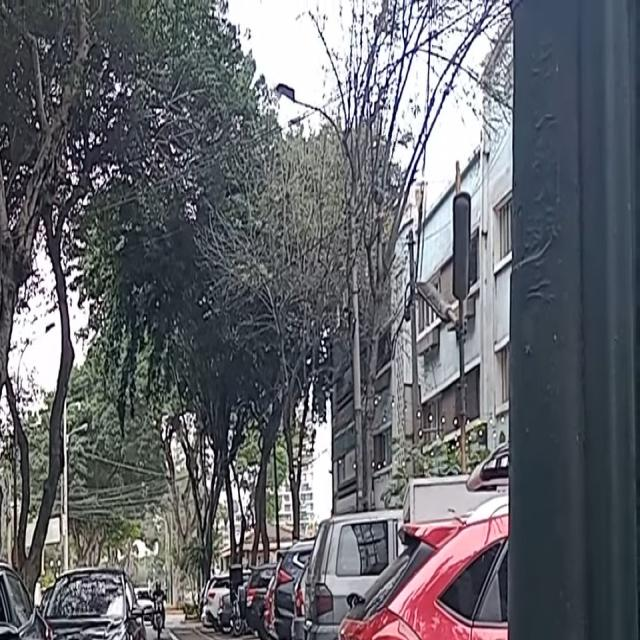car: (42, 565, 147, 640), (0, 560, 54, 640)
motorcycle: (149, 591, 168, 640)
